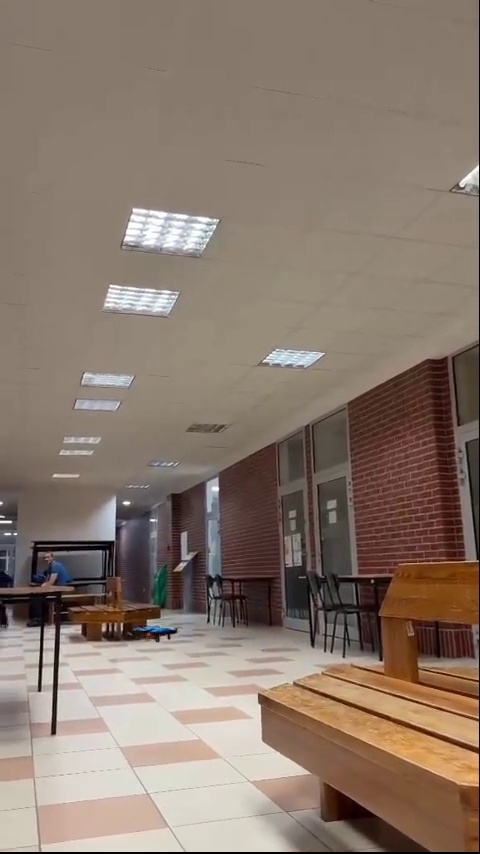drone: (143, 622, 179, 644)
no vest: (35, 551, 74, 593)
